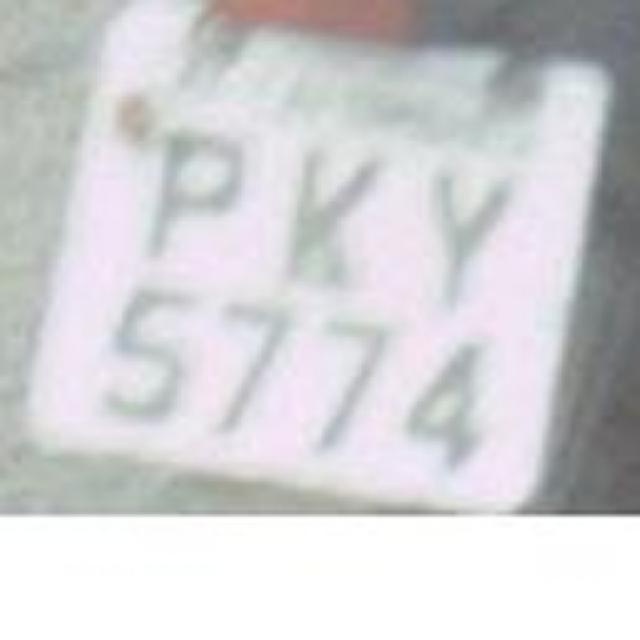4: (389, 320, 496, 480)
5: (88, 276, 204, 429)
7: (191, 288, 304, 452), (288, 296, 392, 464)
P: (131, 112, 244, 288)
Y: (400, 140, 520, 312)
